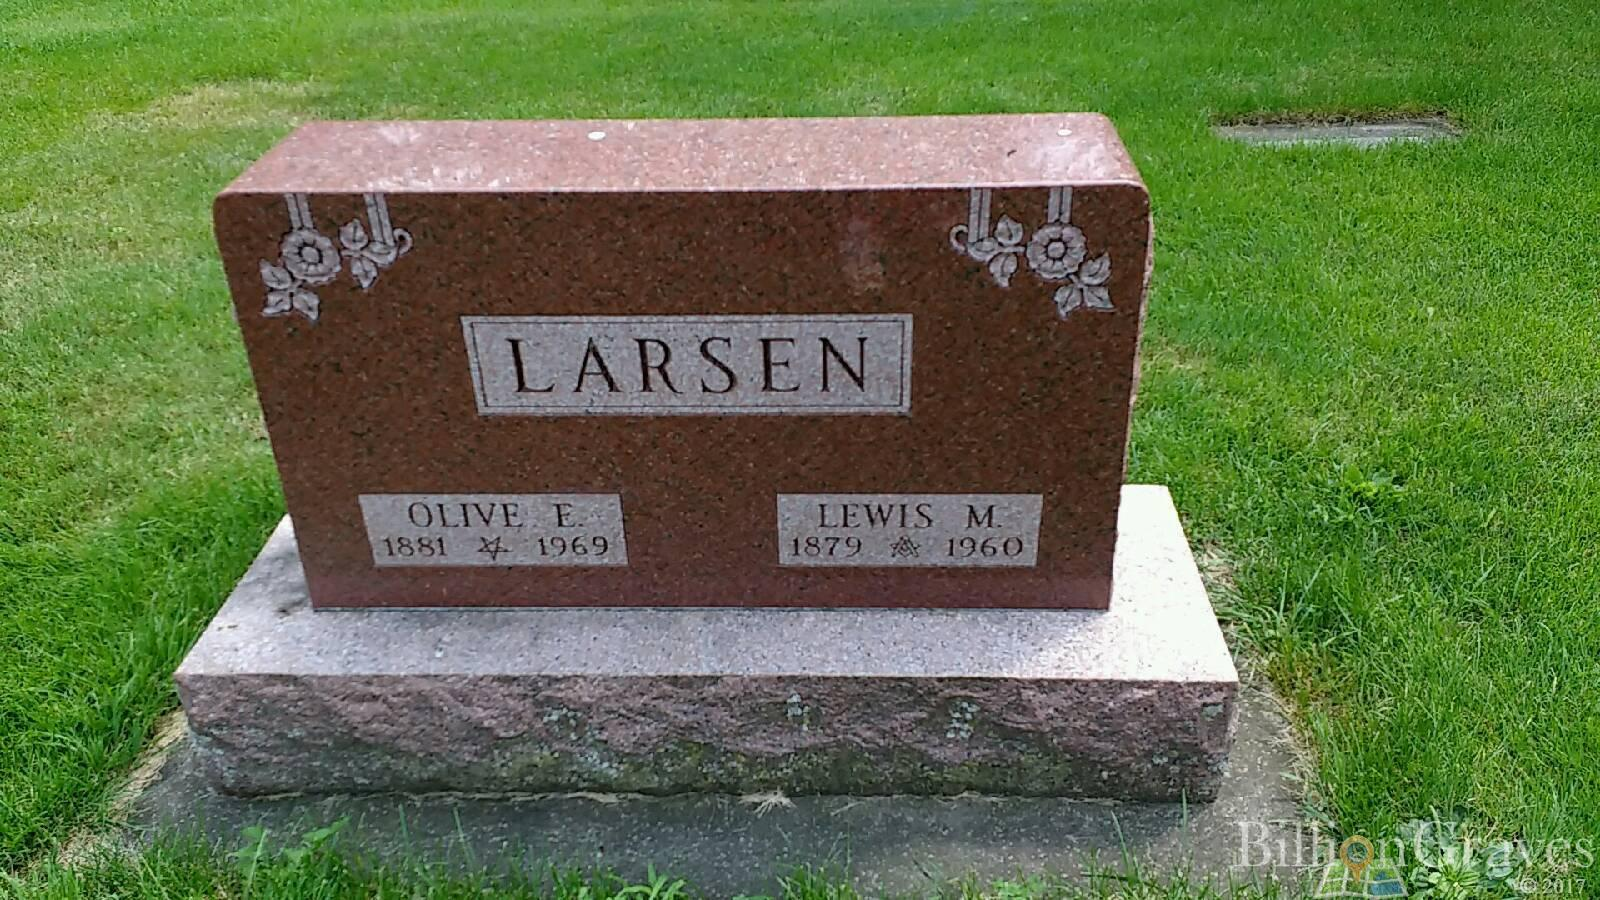upright: (111, 27, 1305, 822)
